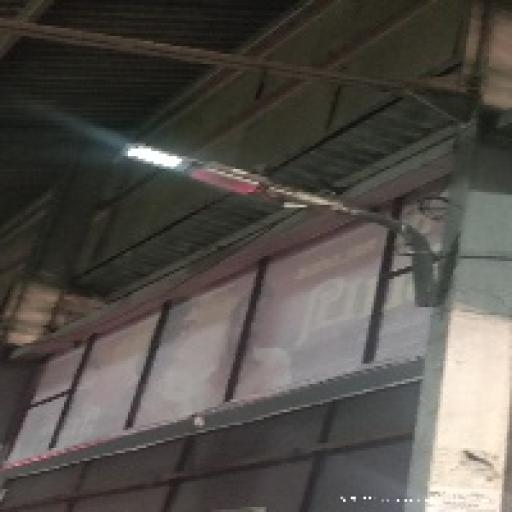Working: (108, 132, 198, 181)
